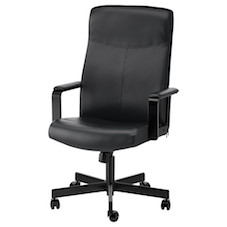chair: (48, 8, 197, 222)
